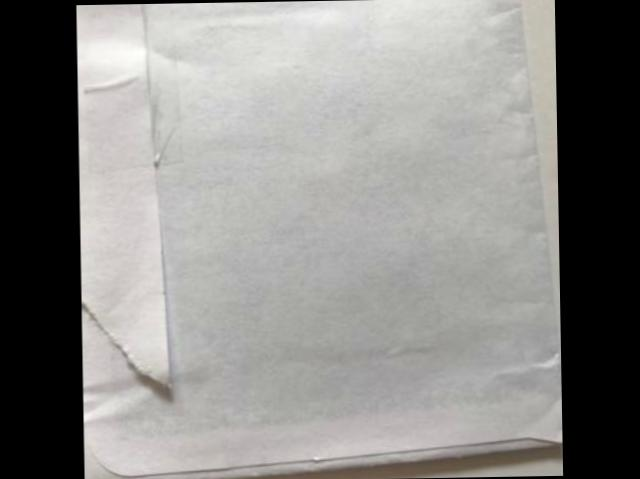cardboard paper: (76, 0, 563, 477)
